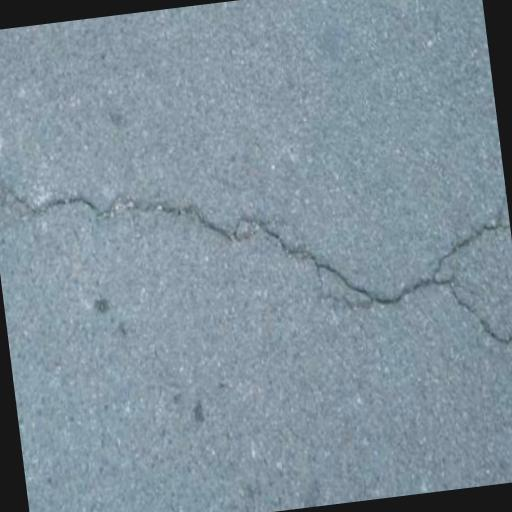spalling: (0, 164, 501, 327), (425, 265, 512, 372)
